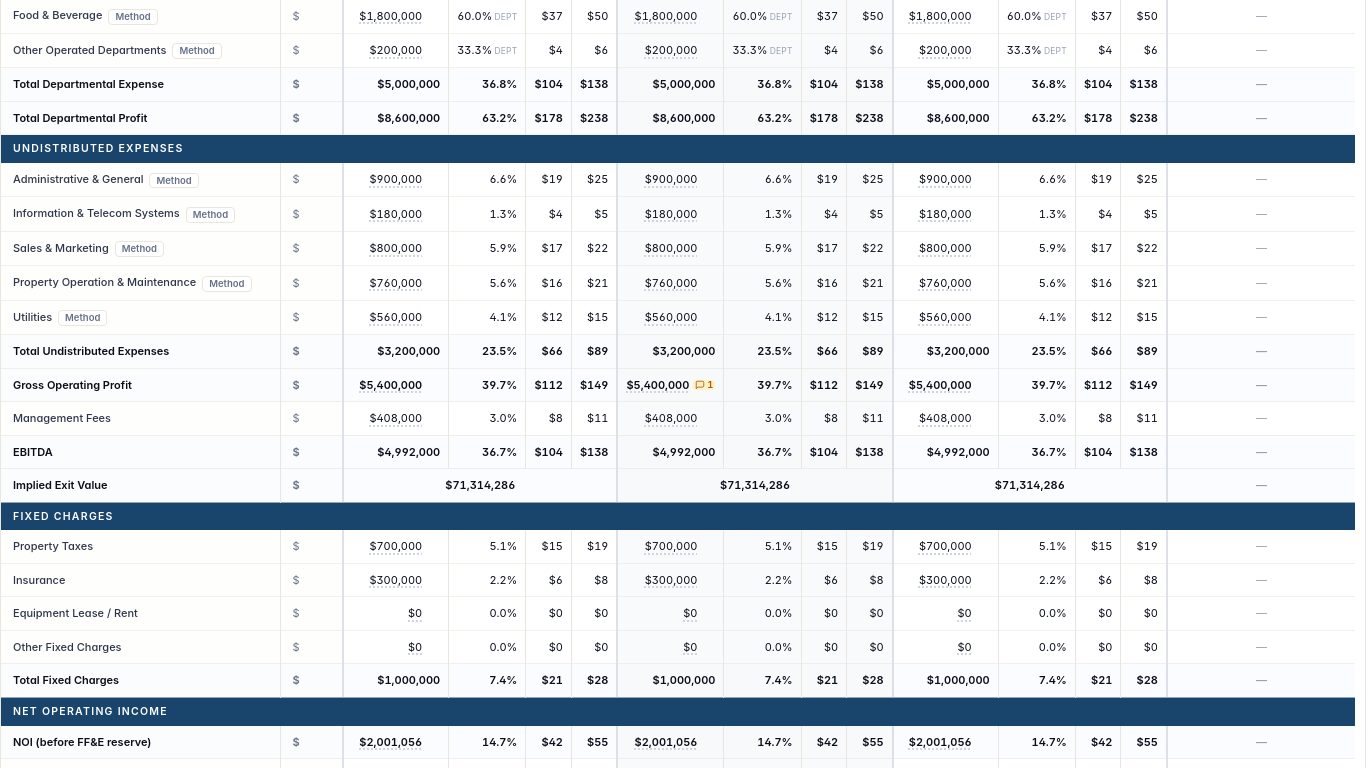
Test case: Future P&L — cell comments (E-011) › marks exactly the commented year cell, keyed by engine path + year index
(page scrolled)
Click the button "1" at (704, 385), box [693,380,716,390]
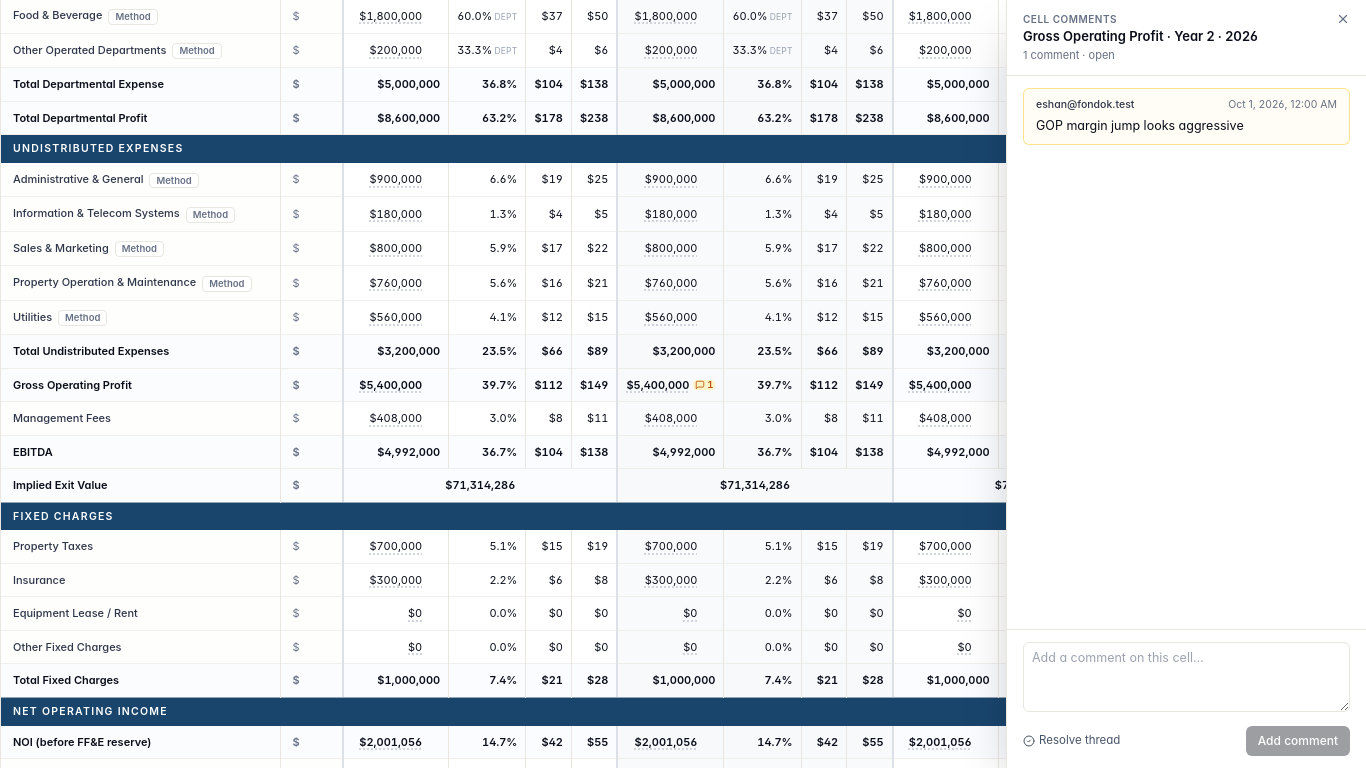
Expected: the text "GOP margin jump looks aggressive" is shown, [1036,118,1244,133]
